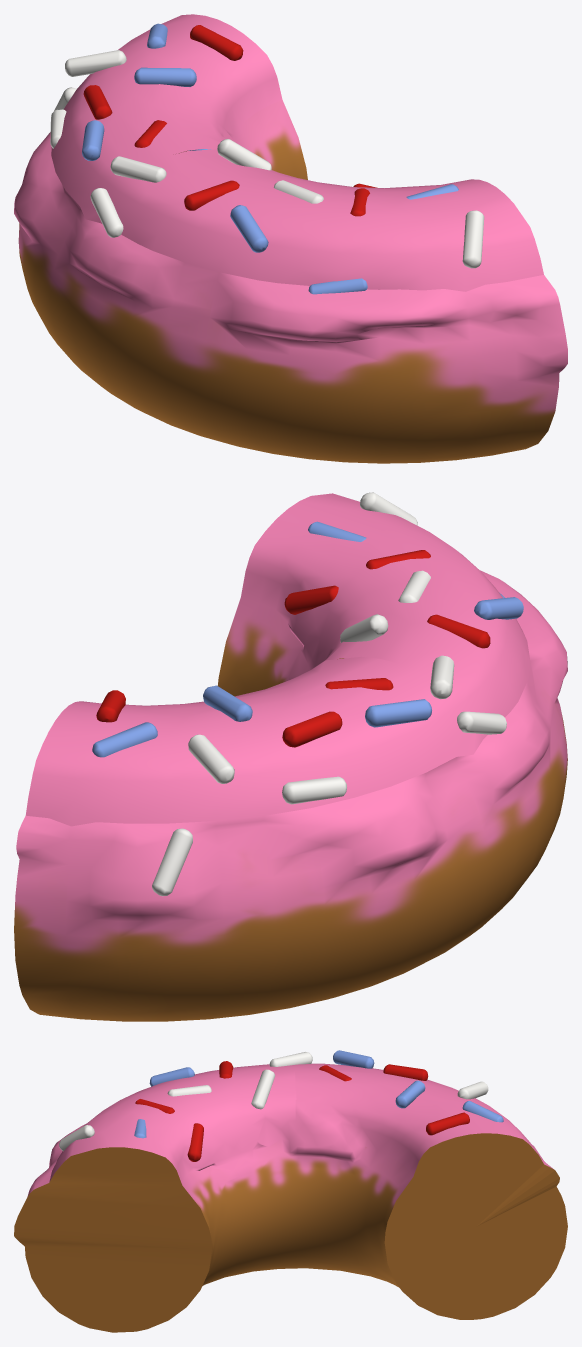
File: donut2_LOD2.fbx
3 views of the same model, one above another, from view 1: azimuth 30°, elevation 25°; view 2: azimuth 150°, elevation 25°; view 3: azimuth 270°, elevation 25° (orthographic). The views are drawn at different scales.
Visible parts, largest first — view 1: pTorus1; view 2: pTorus1; view 3: pTorus1.
Boxes of the visible parts, <box> form: pTorus1: <box>14,14,567,463</box>; pTorus1: <box>14,492,567,1021</box>; pTorus1: <box>14,1050,567,1332</box>.
Bounding box in the file's own units: 108 × 87.96 × 221.
1 material, 1 textured.
